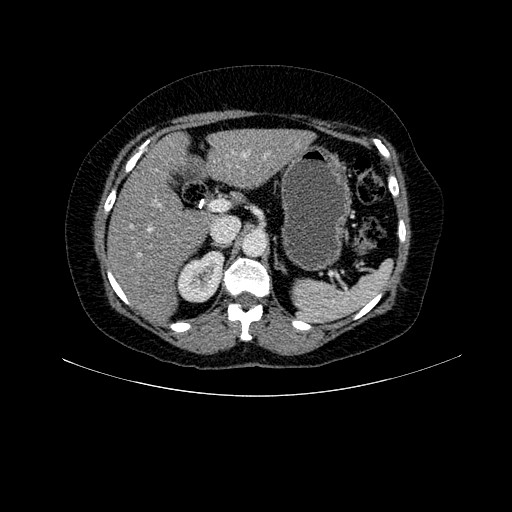clipe: (198, 198, 205, 210)
